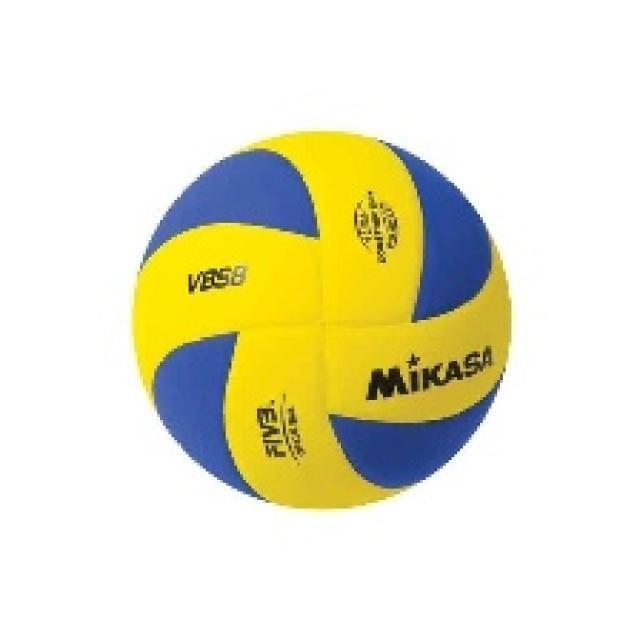volleyball: (133, 132, 511, 508)
